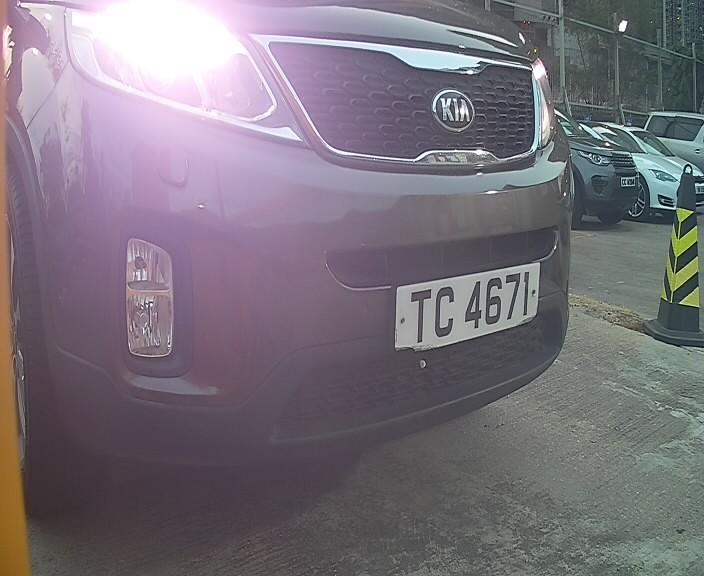Car: (1, 1, 645, 476)
License Plate: (384, 255, 544, 355)
